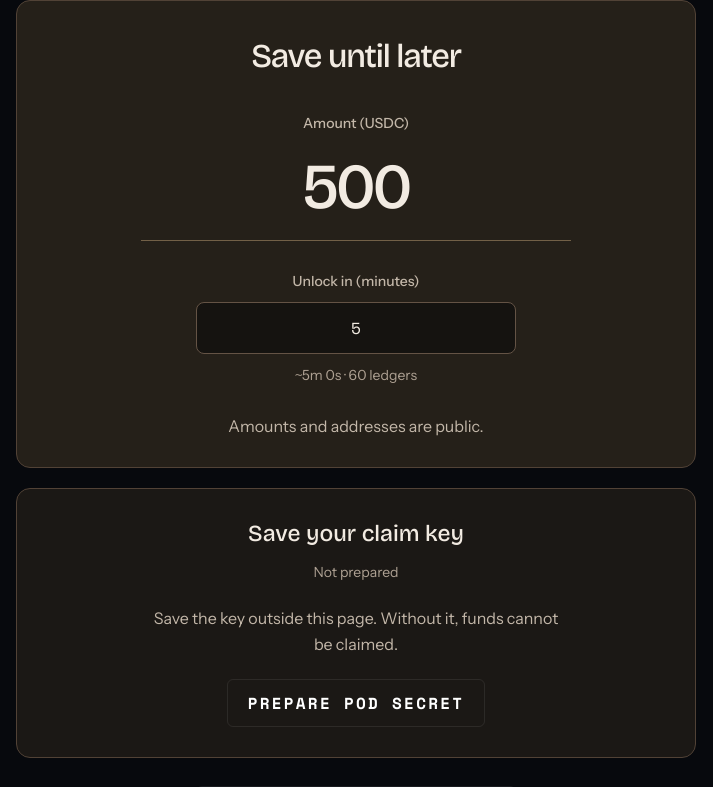
Test: read-only instrument drafts › shows the actual minimum Pod ledger delay without inventing an unlock date
The image size is (713, 787).
Replace the text in the field labelled "Unlock in (minutes) ~5m 0s · 60 ledgers" with "0.25": point(356, 328) [196, 302, 516, 354]
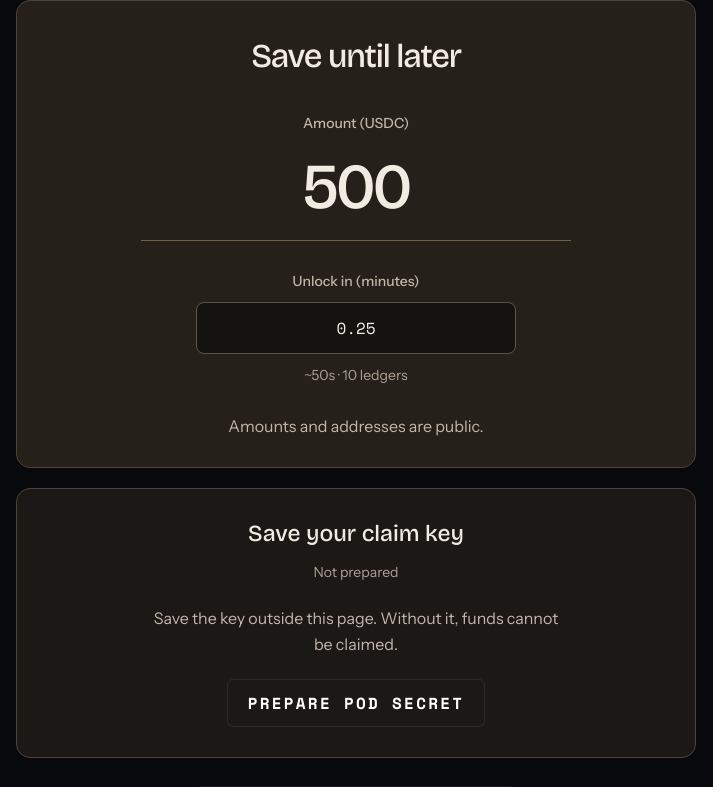
Result: the text "~50s · 10 ledgers" is shown at [304, 366, 408, 384]
